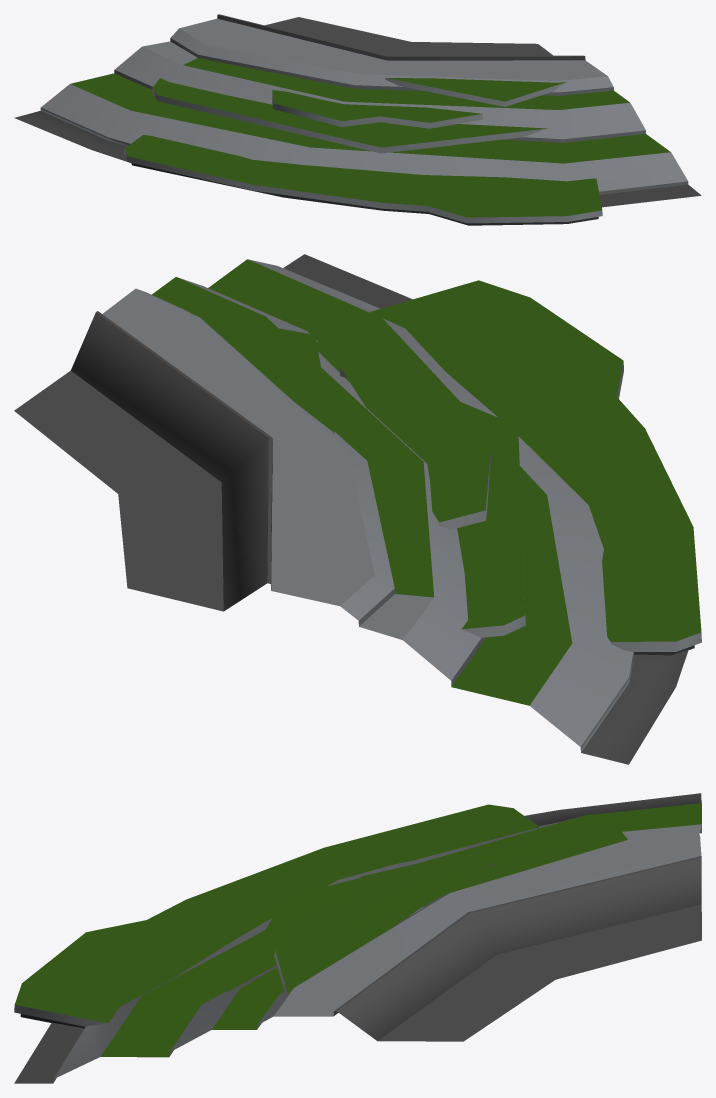
File: R0_Park_Center_side_L3.fbx
3 renders of one model, top to bottom at view 1: azimuth 30°, elevation 25°; view 2: azimuth 150°, elevation 25°; view 3: azimuth 270°, elevation 25°, orthographic. The views are drawn at different scales.
Visible parts, largest first — view 1: R0_Park_Center_side_L3; view 2: R0_Park_Center_side_L3; view 3: R0_Park_Center_side_L3.
Boxes of the visible parts, <box> form: R0_Park_Center_side_L3: <box>14,14,701,225</box>; R0_Park_Center_side_L3: <box>14,254,701,764</box>; R0_Park_Center_side_L3: <box>14,793,701,1083</box>.
Size of the model in its own units: 27.79 by 27.74 by 3.27.
